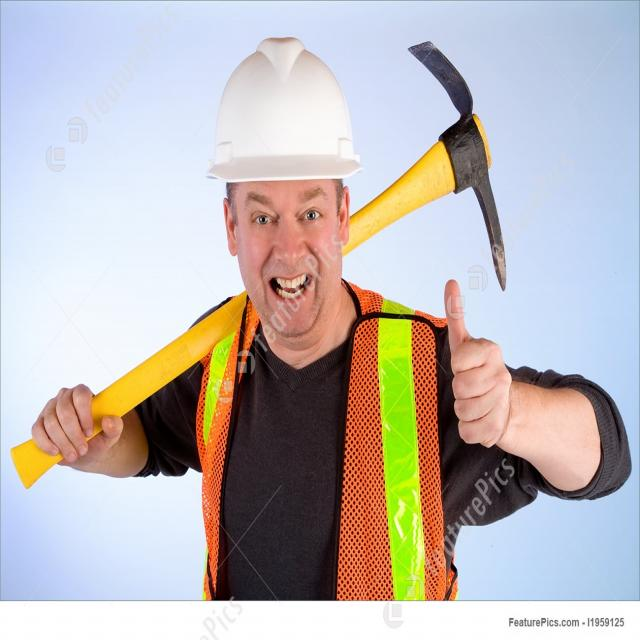Reflective-Jacket: (190, 282, 448, 594)
Safety-Helmet: (204, 34, 364, 190)
